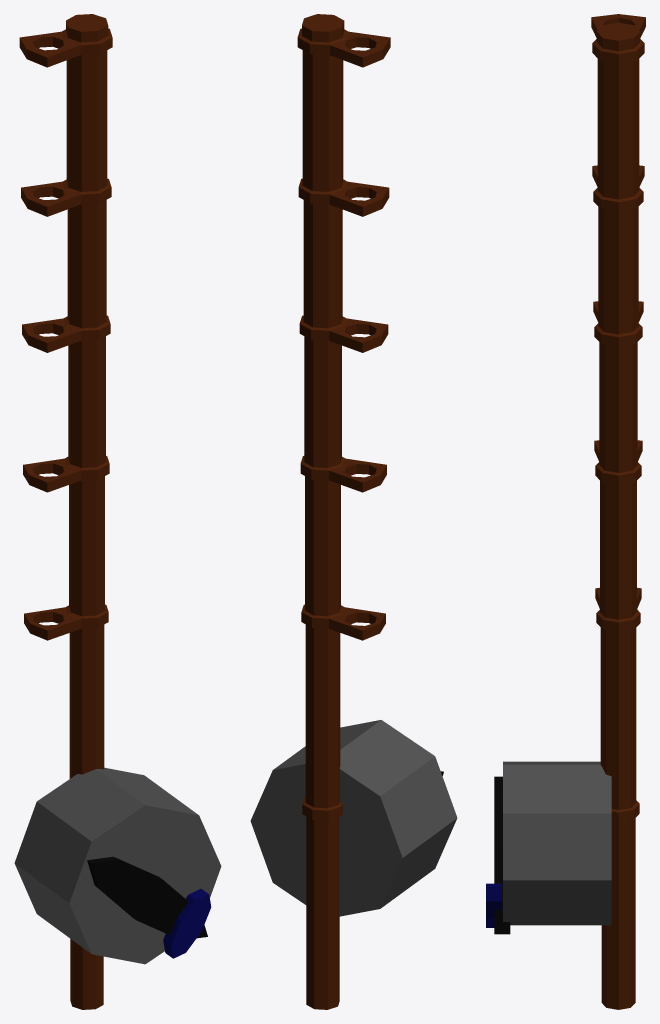
The model's file is pull.glb.
3 renders of one model, left to right at view 1: azimuth 30°, elevation 25°; view 2: azimuth 150°, elevation 25°; view 3: azimuth 270°, elevation 25°, orthographic.
Parts seen in each view (by area): view 1: pole, Cylinder, Cylinder.001, Cylinder.002; view 2: pole, Cylinder; view 3: pole, Cylinder, Cylinder.001, Cylinder.002.
Boxes of the visible parts, x1=… form: pole: x1=19, y1=14, x2=112, y2=1009; Cylinder: x1=14, y1=767, x2=221, y2=964; Cylinder.001: x1=87, y1=856, x2=207, y2=938; Cylinder.002: x1=163, y1=888, x2=211, y2=958; pole: x1=297, y1=14, x2=390, y2=1009; Cylinder: x1=250, y1=720, x2=457, y2=916; pole: x1=591, y1=14, x2=645, y2=1009; Cylinder: x1=503, y1=761, x2=611, y2=925; Cylinder.001: x1=494, y1=776, x2=510, y2=934; Cylinder.002: x1=486, y1=883, x2=501, y2=927.
Bounding box in the file's own units: 0.16 × 0.9849 × 0.1468.
